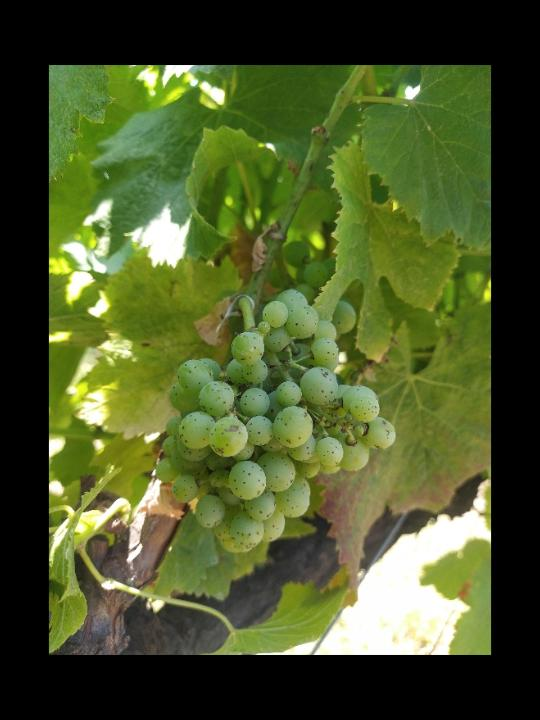grape: (155, 288, 397, 555)
